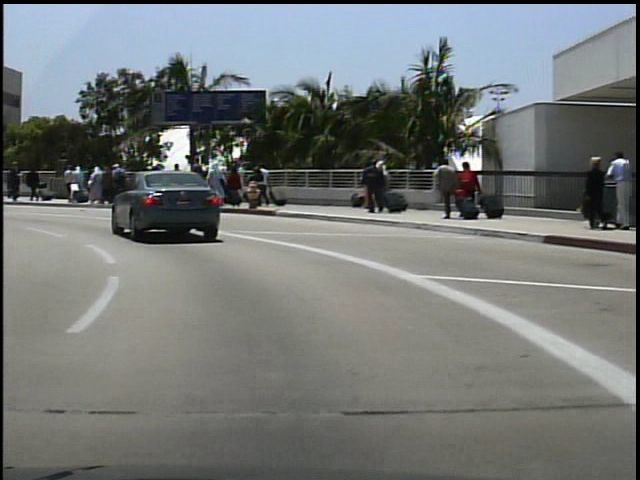person: (603, 148, 633, 230), (577, 154, 608, 231), (432, 158, 458, 224), (359, 158, 386, 217), (454, 160, 477, 218), (6, 157, 25, 202), (257, 160, 273, 208), (24, 165, 42, 203), (9, 165, 26, 202)
